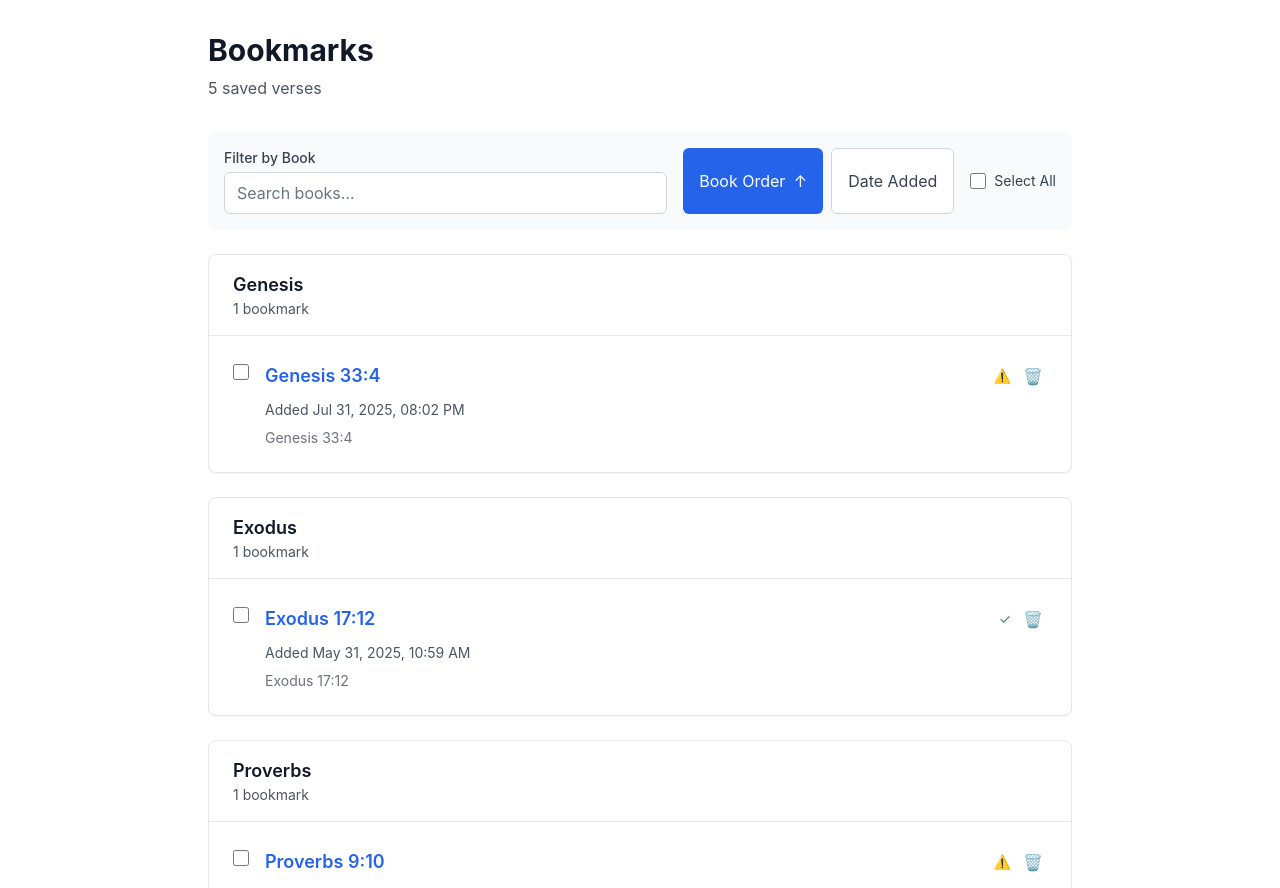
Test: BookmarksView › Deletion Functionality › cancels deletion when cancel is clicked
This screenshot has width=1280, height=888.
Click the 1st button "🗑️" at (1033,376), box [1019, 360, 1047, 392]
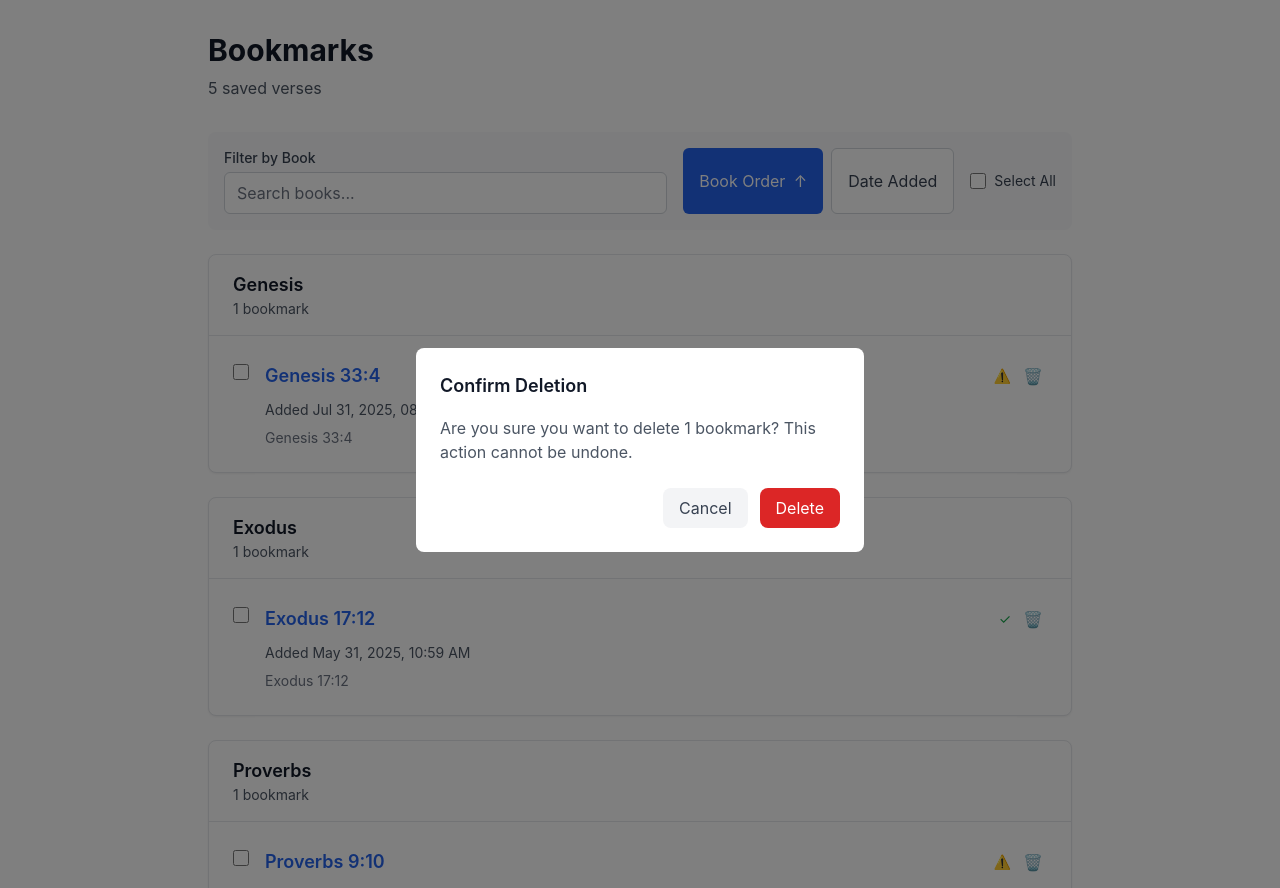
Click the button "Cancel" at (705,508), box [663, 488, 748, 528]
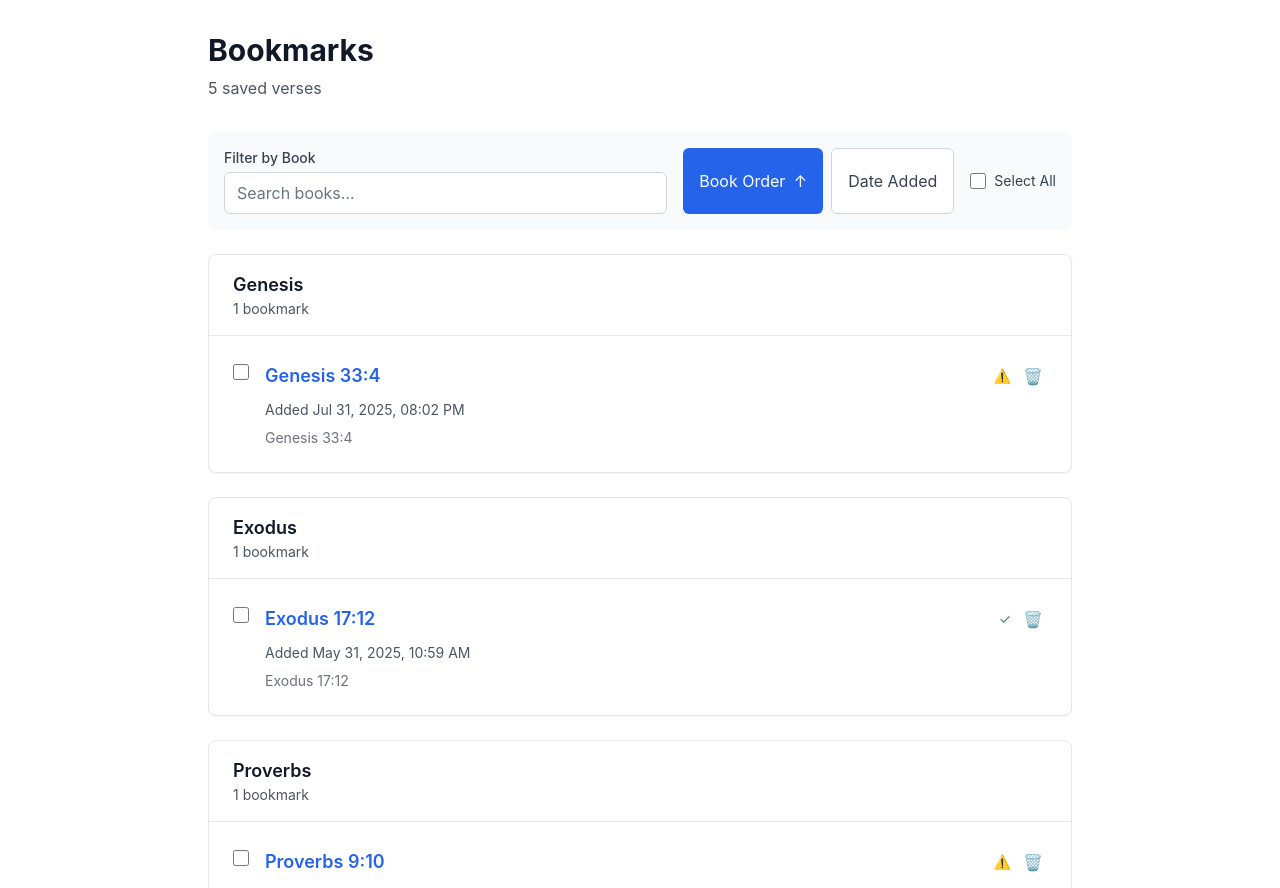
Expected: the text "Confirm Deletion" is gone
